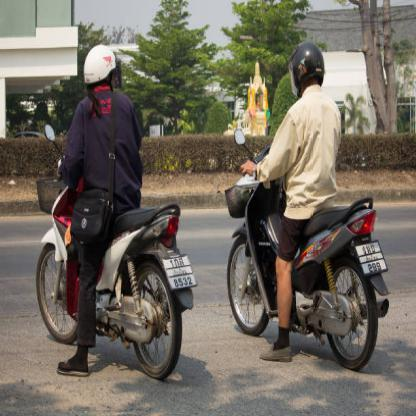Motorcycle: (222, 136, 391, 381), (27, 144, 188, 393)
